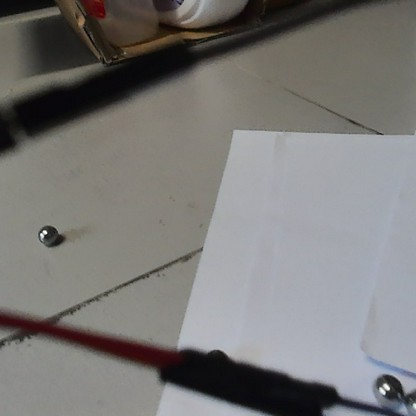ironball: (369, 369, 402, 410), (33, 222, 60, 249), (402, 387, 414, 414)
